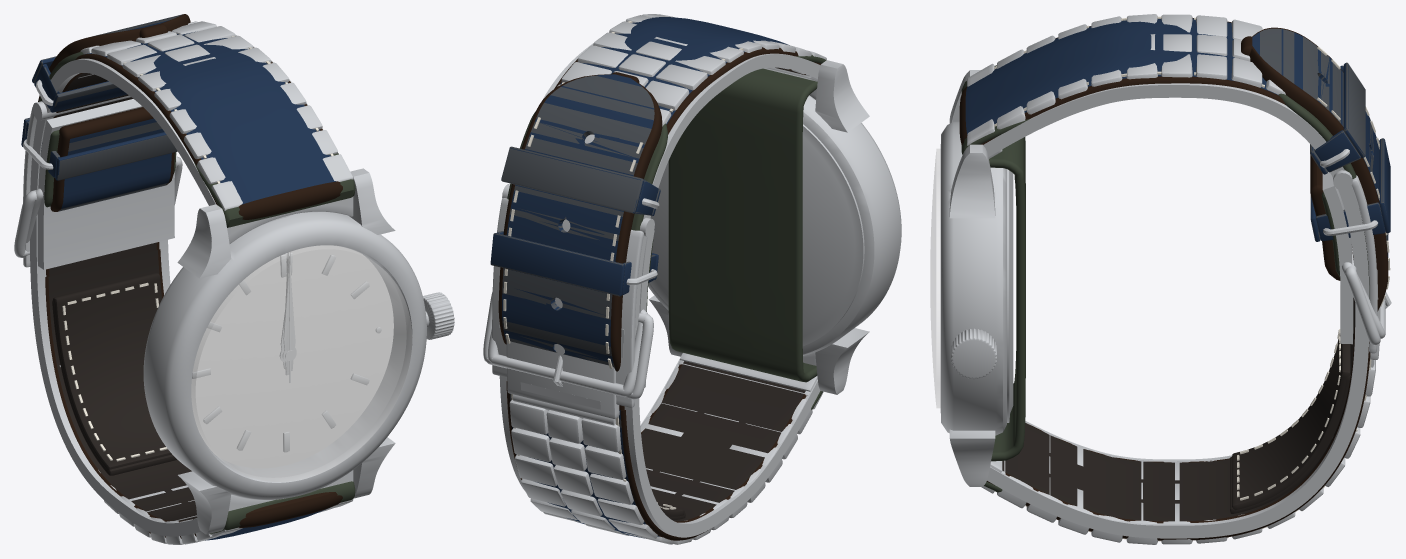
Rendered from watch.glb.
The picture shows the model from 3 angles, left to right: view 1: azimuth 30°, elevation 25°; view 2: azimuth 150°, elevation 25°; view 3: azimuth 270°, elevation 25°; orthographic projection. The views are drawn at different scales.
Parts seen in each view (by area): view 1: crystal, strap_leather, case, print_classic, strap_milanese, pocket_leather, strap_bracelet, strap_textile, strap_nato, markers_classic, crown, pocket_nato (+1 smaller); view 2: strap_nato, strap_leather, strap_textile, strap_bracelet, strap_milanese, case, caseback; view 3: strap_leather, case, strap_milanese, strap_textile, strap_bracelet, strap_nato, pocket_leather, crystal, crown, caseback, pocket_nato.
Boxes of the visible parts, x1,y1,x2,y2 form: crystal: (191,245,411,481); strap_leather: (21,14,342,540); case: (143,168,426,534); print_classic: (191,245,393,468); strap_milanese: (23,34,323,536); pocket_leather: (53,272,171,470); strap_bracelet: (59,21,353,544); strap_textile: (24,14,203,522); strap_nato: (14,52,355,534); markers_classic: (192,253,369,452); crown: (423,292,454,339); pocket_nato: (52,300,177,475); strap_nato: (483,55,826,409); strap_leather: (488,16,820,540); strap_textile: (488,67,806,522); strap_bracelet: (499,14,826,544); strap_milanese: (492,43,820,537); case: (648,60,901,394); caseback: (649,124,864,346); strap_leather: (959,16,1391,541); case: (940,70,1006,486); strap_milanese: (983,83,1377,538); strap_textile: (1005,27,1391,523); strap_bracelet: (967,14,1380,544); strap_nato: (961,65,1385,492); pocket_leather: (1232,329,1350,510); crystal: (930,149,940,407); crown: (951,328,996,378); caseback: (1007,169,1013,422); pocket_nato: (1230,374,1350,513).
Size of the model in its own units: 44.2 by 66.91 by 58.85.
